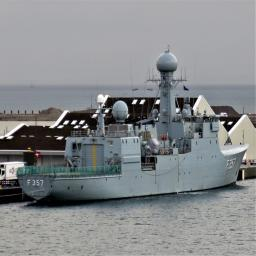Fragata: (16, 48, 253, 204)
